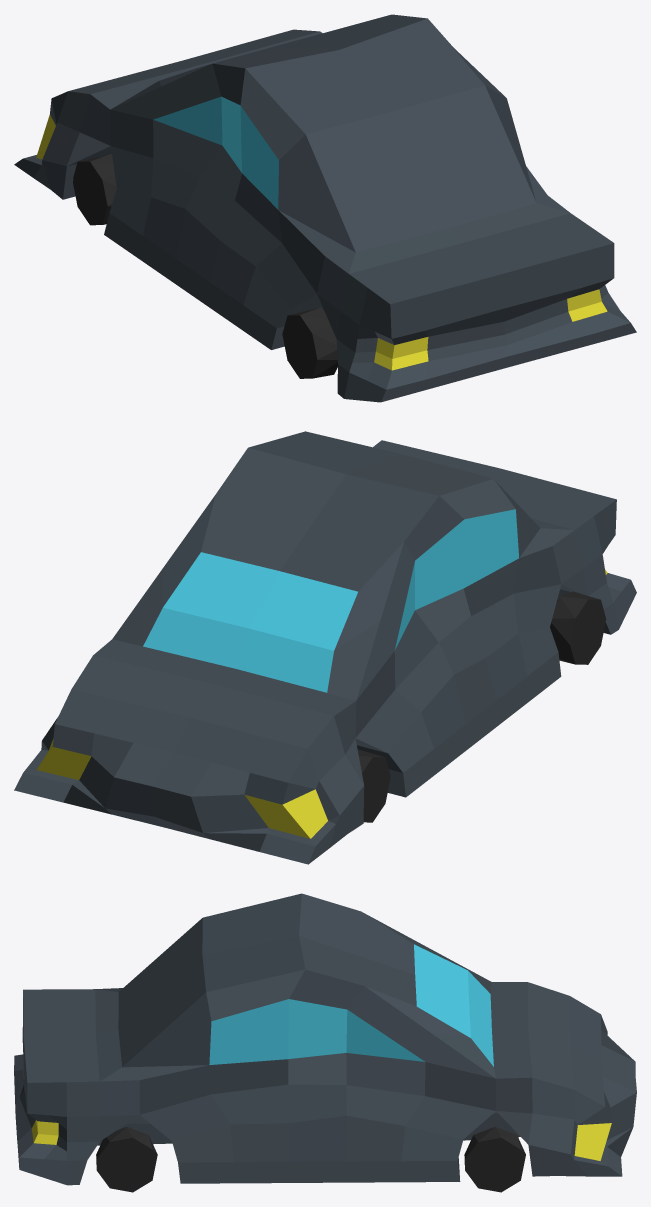
File: car.glb
3 views of the same model, one above another, from view 1: azimuth 30°, elevation 25°; view 2: azimuth 150°, elevation 25°; view 3: azimuth 270°, elevation 25° (orthographic). The views are drawn at different scales.
Parts seen in each view (by area): view 1: Cube, Cylinder.003, Cylinder.001; view 2: Cube, Cylinder.003, Cylinder.001; view 3: Cube, Cylinder, Cylinder.002.
Boxes of the visible parts, left/top/right/bottom form: Cube: left=14, top=14, right=636, bottom=402; Cylinder.003: left=282, top=307, right=337, bottom=378; Cylinder.001: left=73, top=154, right=116, bottom=225; Cube: left=14, top=431, right=636, bottom=864; Cylinder.003: left=550, top=591, right=606, bottom=664; Cylinder.001: left=357, top=749, right=390, bottom=822; Cube: left=14, top=893, right=636, bottom=1185; Cylinder: left=464, top=1127, right=525, bottom=1192; Cylinder.002: left=96, top=1127, right=157, bottom=1192.
Size of the model in its own units: 5.4 by 3.99 by 11.17.
